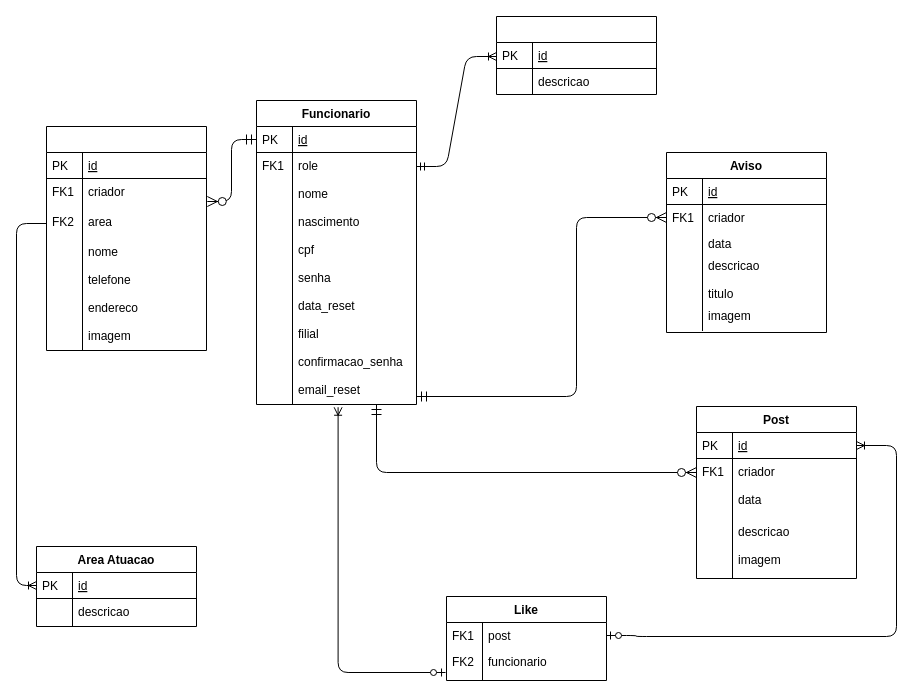
Some shapes in this 913 by 697 pixel diagram are drawn without their labels. Each missing label, with the box of its shape:
Parceirias: (46, 126, 206, 350)
Perfil: (496, 16, 656, 94)
